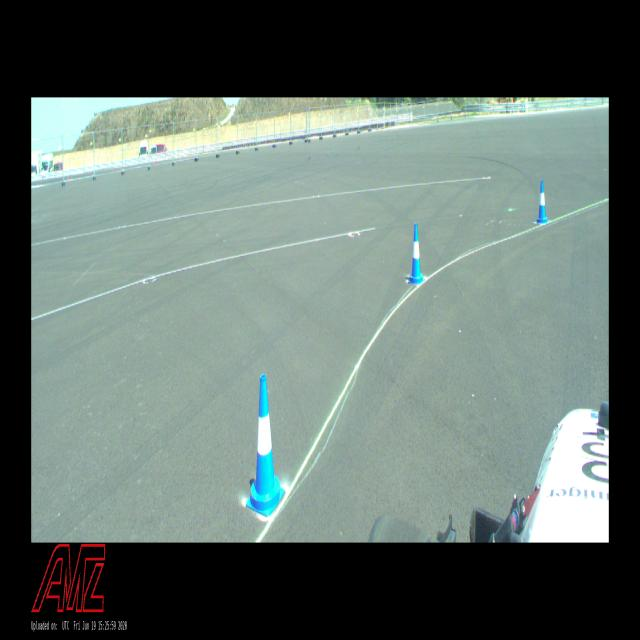blue_cone: (246, 373, 285, 517), (408, 223, 424, 286), (535, 180, 549, 225)
